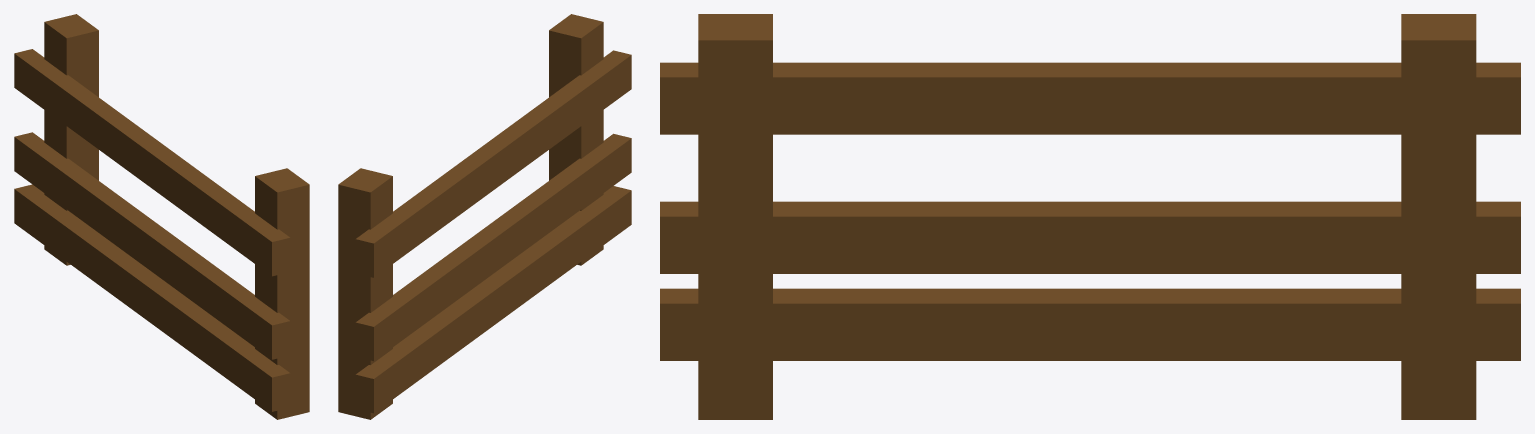
Rendered from Fence 3.fbx.
3 views of the same model, side by side, from view 1: azimuth 30°, elevation 25°; view 2: azimuth 150°, elevation 25°; view 3: azimuth 270°, elevation 25° (orthographic). The views are drawn at different scales.
Parts seen in each view (by area): view 1: Fence_3; view 2: Fence_3; view 3: Fence_3.
Part boxes in pixels (box(x1,y1,x2,y2)): Fence_3: box(14, 14, 309, 419); Fence_3: box(338, 14, 631, 419); Fence_3: box(660, 14, 1520, 419).
Size of the model in its own units: 33.03 by 146 by 301.
1 material, 1 textured.
